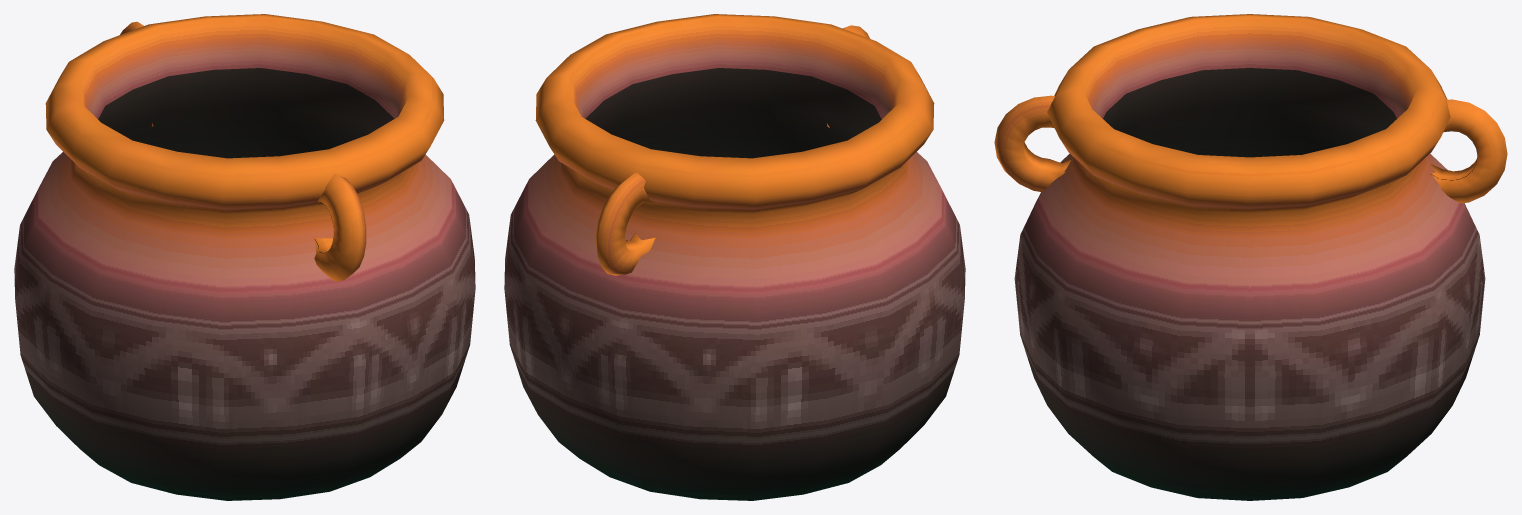
File: Pot_Small.glb
The picture shows the model from 3 angles, left to right: view 1: azimuth 30°, elevation 25°; view 2: azimuth 150°, elevation 25°; view 3: azimuth 270°, elevation 25°; orthographic projection.
Parts seen in each view (by area): view 1: Pot_Small; view 2: Pot_Small; view 3: Pot_Small.
Boxes of the visible parts, left/top/right/bottom form: Pot_Small: left=14, top=14, right=475, bottom=500; Pot_Small: left=504, top=14, right=965, bottom=500; Pot_Small: left=994, top=14, right=1507, bottom=500.
Size of the model in its own units: 0.4388 by 0.3568 by 0.4847.
1 material, 1 textured.
